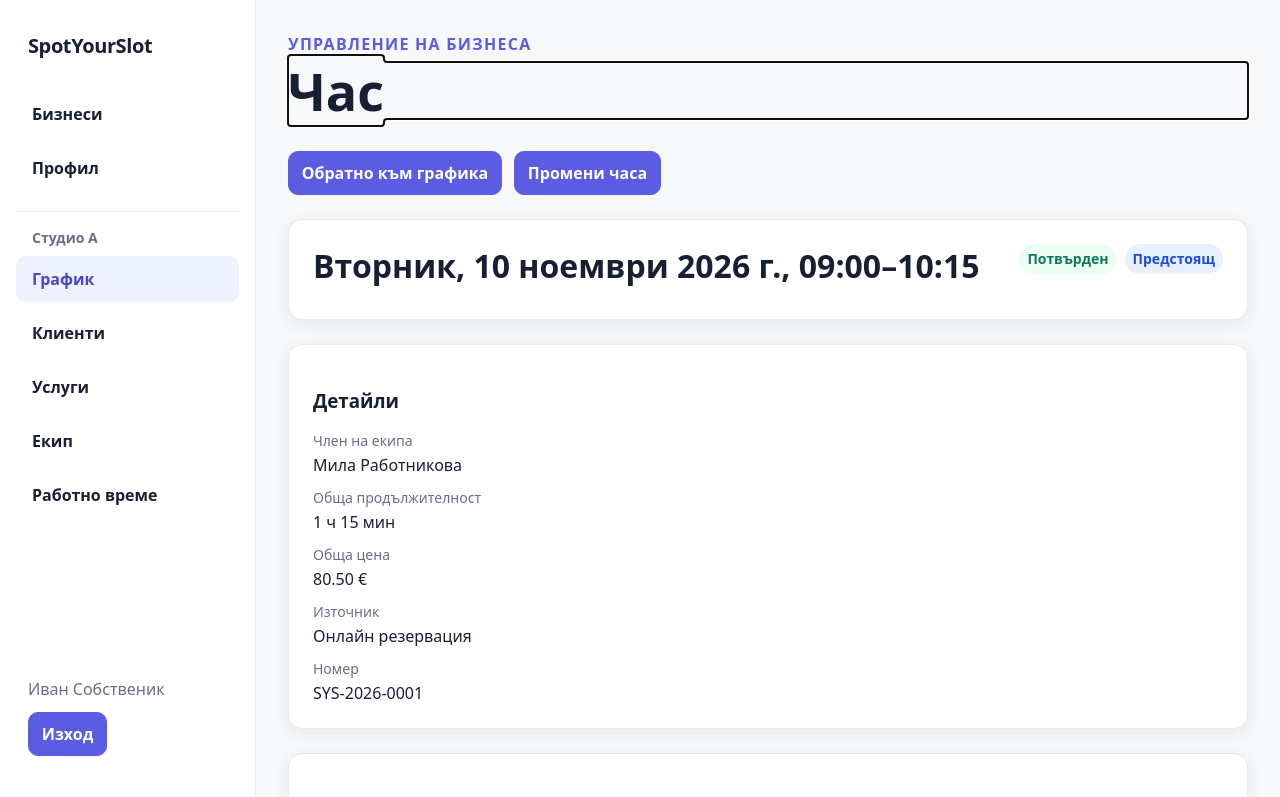
the entry on the Appointment detail › offers the action to the owner of an ACTIVE Business for a future confirmed Appointment and opens the private route
Expected: the element "Детайли" is shown, left=288, top=344, right=1248, bottom=729
Click the button "Промени часа". click: (588, 173)
box: left=514, top=151, right=661, bottom=195
(page scrolled)
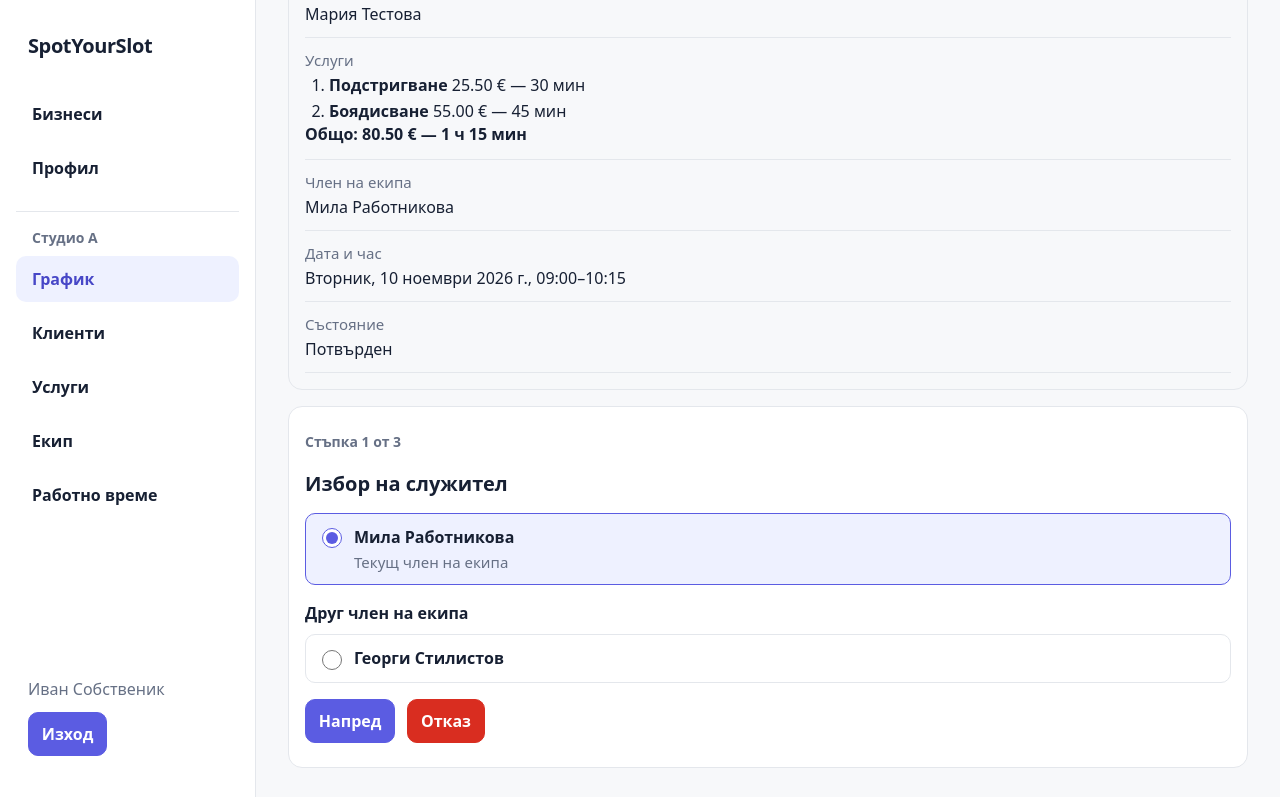
Result: the radio button labelled "Мила Работникова Текущ член на екипа" is checked at left=322, top=528, right=342, bottom=548
